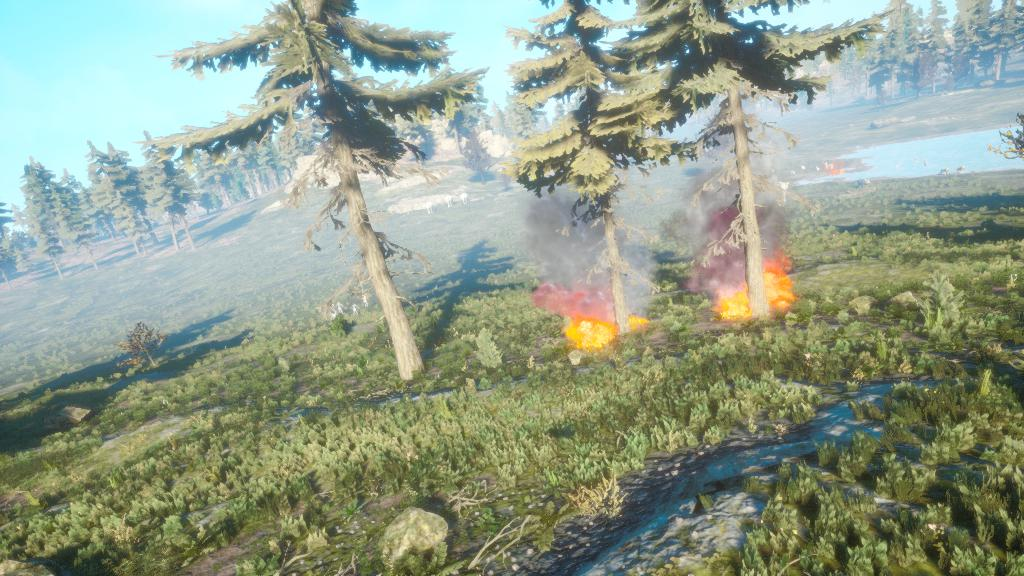Fire: (710, 271, 748, 324), (763, 253, 796, 308), (564, 318, 614, 346), (629, 310, 654, 334)
smoke: (532, 209, 593, 272), (690, 173, 738, 252)
